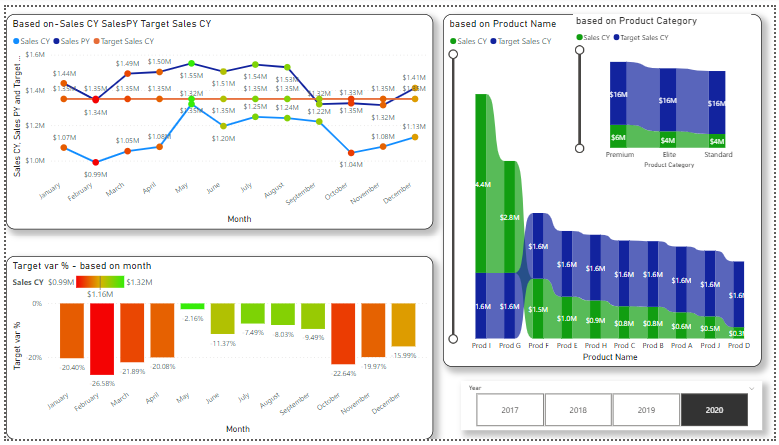

This screenshot's page, from the dashboard's own definition file:
{"tool":"powerbi","page":{"name":"Actual vs target forecast","canvas":[1280,720],"ordinal":1},"visuals":[{"type":"lineChart","title":"Based on-Sales CY SalesPY Target Sales CY","fields":{"Category":["Calender.Month"],"Y":["All Measures.Sales CY","All Measures.Sales PY","All Measures.Target Sales CY"]},"box":[0,11.8,712.2,359.5],"z":0},{"type":"clusteredColumnChart","title":"Target var  % - based on month","fields":{"Category":["Calender.Month"],"Y":["All Measures.Target var %"]},"box":[0,414.9,712.2,305.7],"z":1000},{"type":"ribbonChart","title":" based on Product Name","fields":{"Category":["Product Details.Product Name"],"Y":["All Measures.Sales CY","All Measures.Target Sales CY"]},"box":[729,11.8,530.8,587.9],"z":2000},{"type":"ribbonChart","title":"based on Product Category","fields":{"Y":["All Measures.Sales CY","All Measures.Target Sales CY"],"Category":["Actual Sales.Product Category"]},"box":[945.7,11.8,297.3,262],"z":3000},{"type":"slicer","fields":{"Values":["Calender.Year"]},"box":[757.6,623.2,502.3,82.3],"z":4000}]}

Visuals, with their boxes in screenshot pixels (x1, y1, x2, y2), scaled from the page's 1280x720 canvas onto the 779x445 screenshot:
"Based on-Sales CY SalesPY Target Sales CY" lineChart: left=0, top=7, right=433, bottom=229
"Target var  % - based on month" clusteredColumnChart: left=0, top=256, right=433, bottom=444
" based on Product Name" ribbonChart: left=444, top=7, right=767, bottom=371
"based on Product Category" ribbonChart: left=576, top=7, right=756, bottom=169
slicer - Calender.Year: left=461, top=385, right=767, bottom=436
